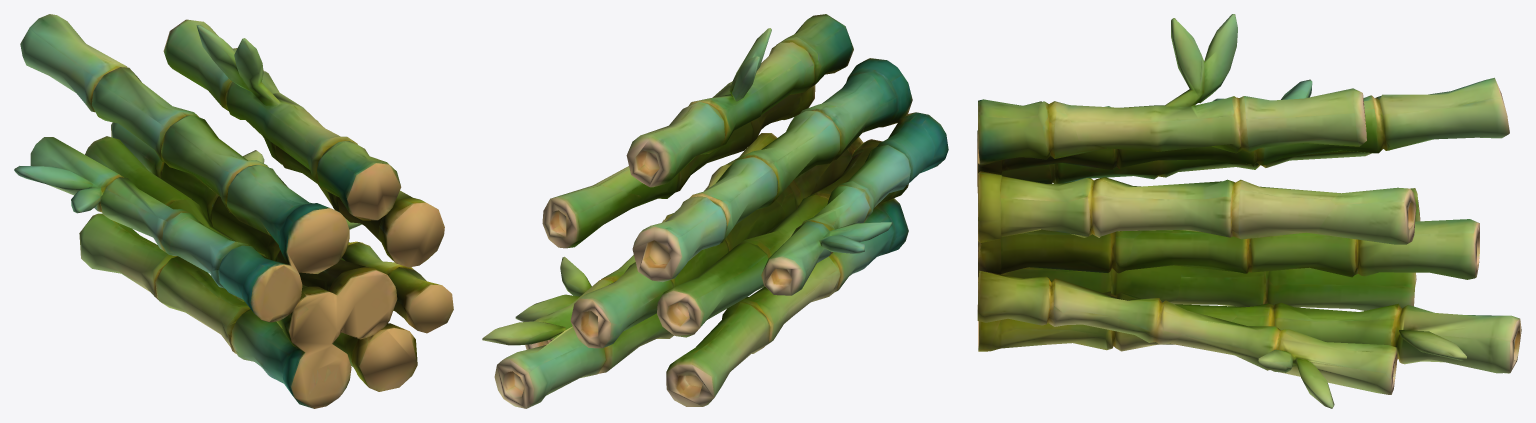
3 views of the same model, side by side, from view 1: azimuth 30°, elevation 25°; view 2: azimuth 150°, elevation 25°; view 3: azimuth 270°, elevation 25° (orthographic). The views are drawn at different scales.
Visible parts, largest first — view 1: material; view 2: material; view 3: material.
Boxes of the visible parts, x1,y1,x2,y2 form: material: (14, 14, 453, 408); material: (482, 14, 948, 408); material: (977, 14, 1521, 408).
Size of the model in its own units: 0.7623 by 0.6324 by 1.
Materials: 1 (1 with a texture image).
